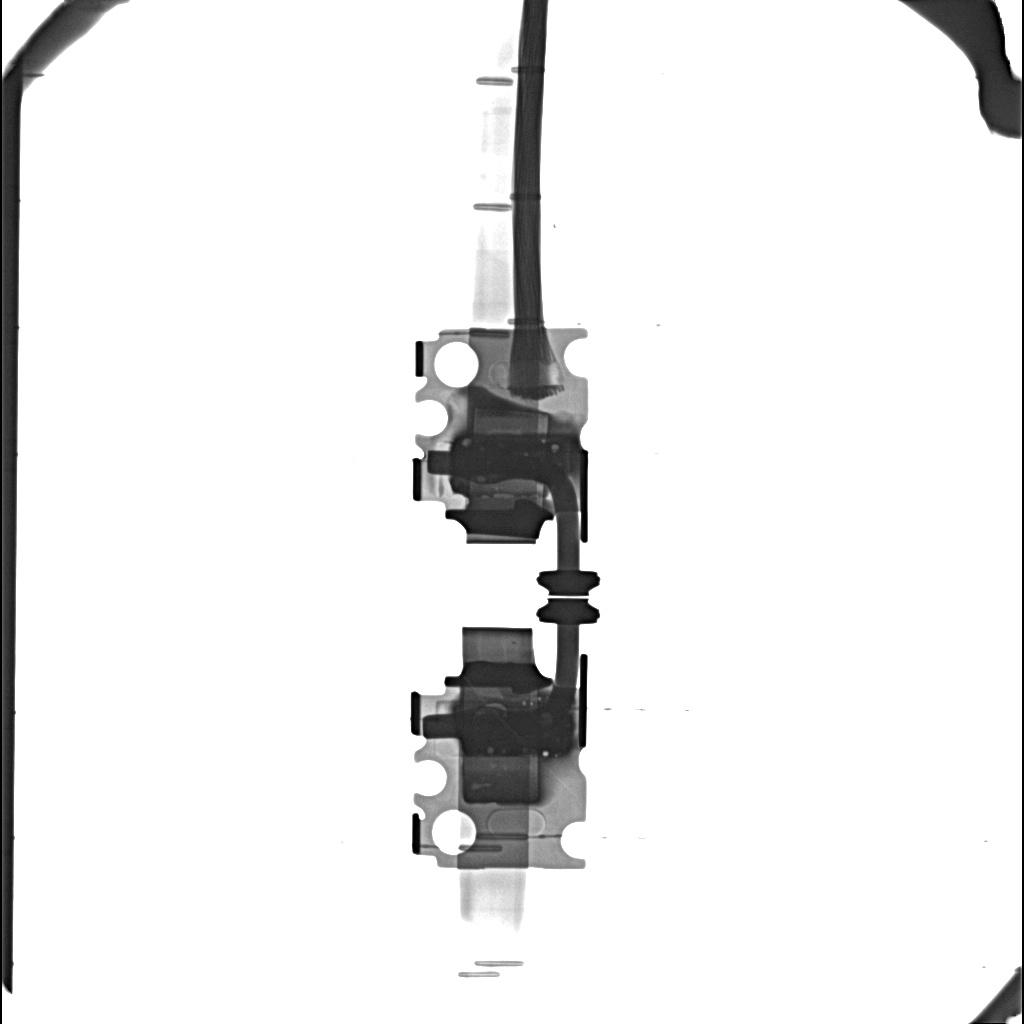PX: (462, 758, 541, 804), (471, 405, 551, 431)
QP: (486, 703, 506, 710)
SX: (451, 433, 574, 483), (454, 710, 574, 756)
